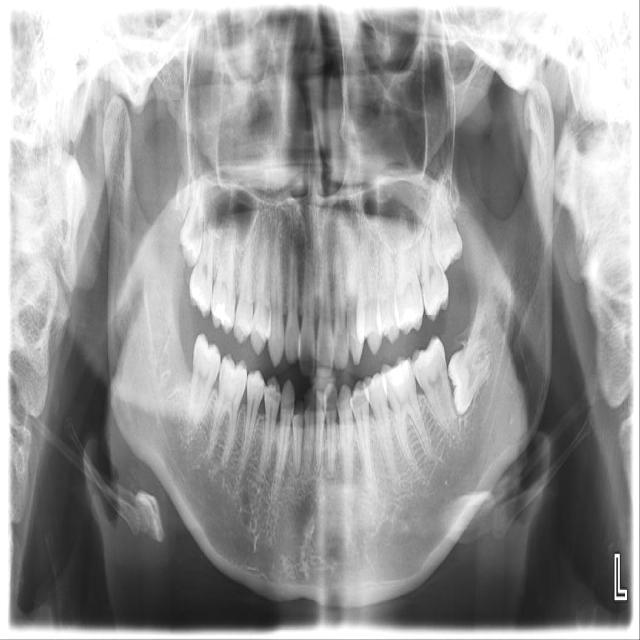Filling: (386, 359, 412, 391), (212, 298, 232, 326), (191, 289, 207, 310)
Root Piece: (304, 404, 316, 474), (292, 404, 304, 472)
impacted tooth: (446, 331, 492, 418), (431, 175, 462, 269), (179, 181, 205, 267)
